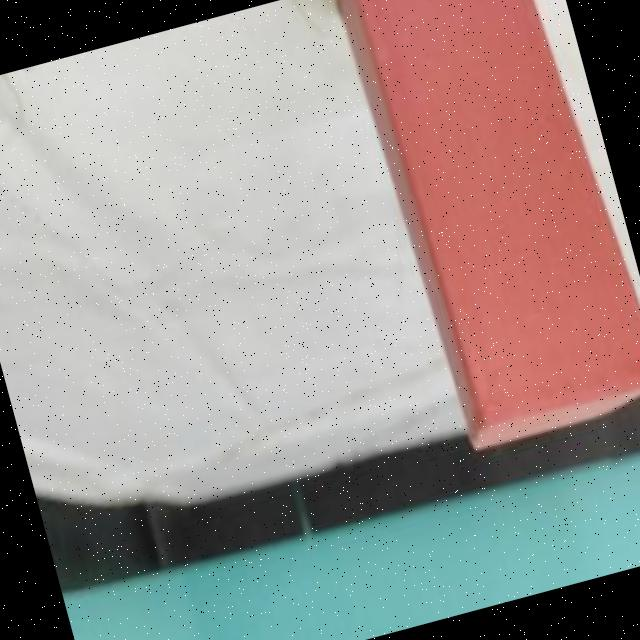redbox: (331, 0, 640, 457)
